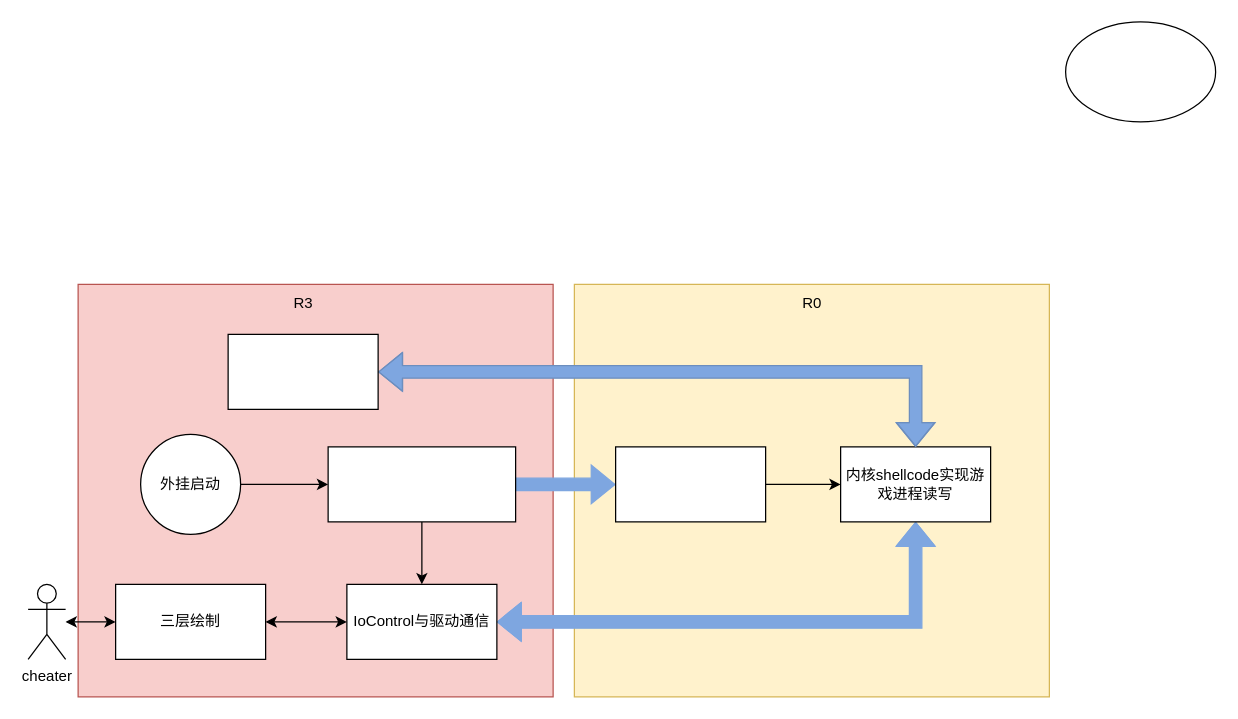
This 1238x719 diagram has some shape labels left out. The shapes that lost their labels are listed below. From the top down, each one's centre as x and y in pixels, then its label:
the point at 302,371: 游戏进程
the point at 421,484: dsound.dll劫持，注入en版本模拟器，替换启动组件
the point at 690,484: mdl映射，注入外挂驱动
